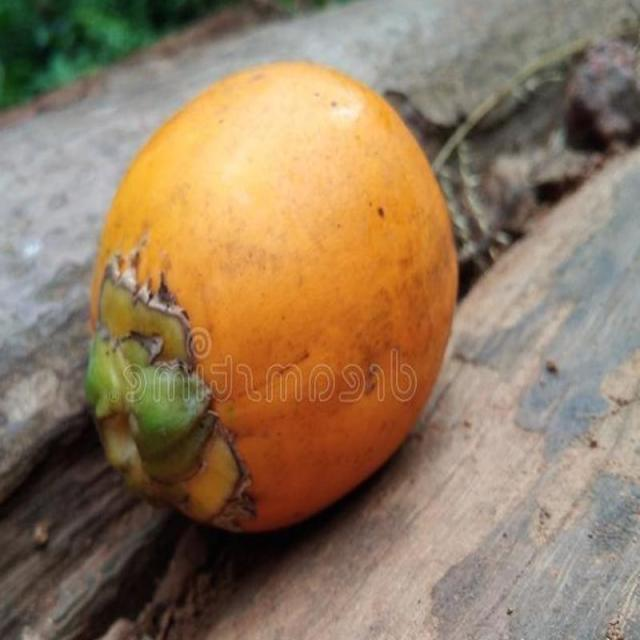good: (85, 61, 460, 539)
